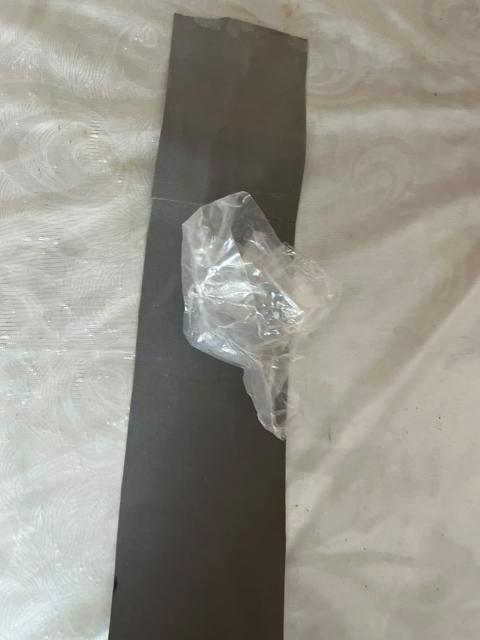LDPE: (114, 157, 439, 518)
